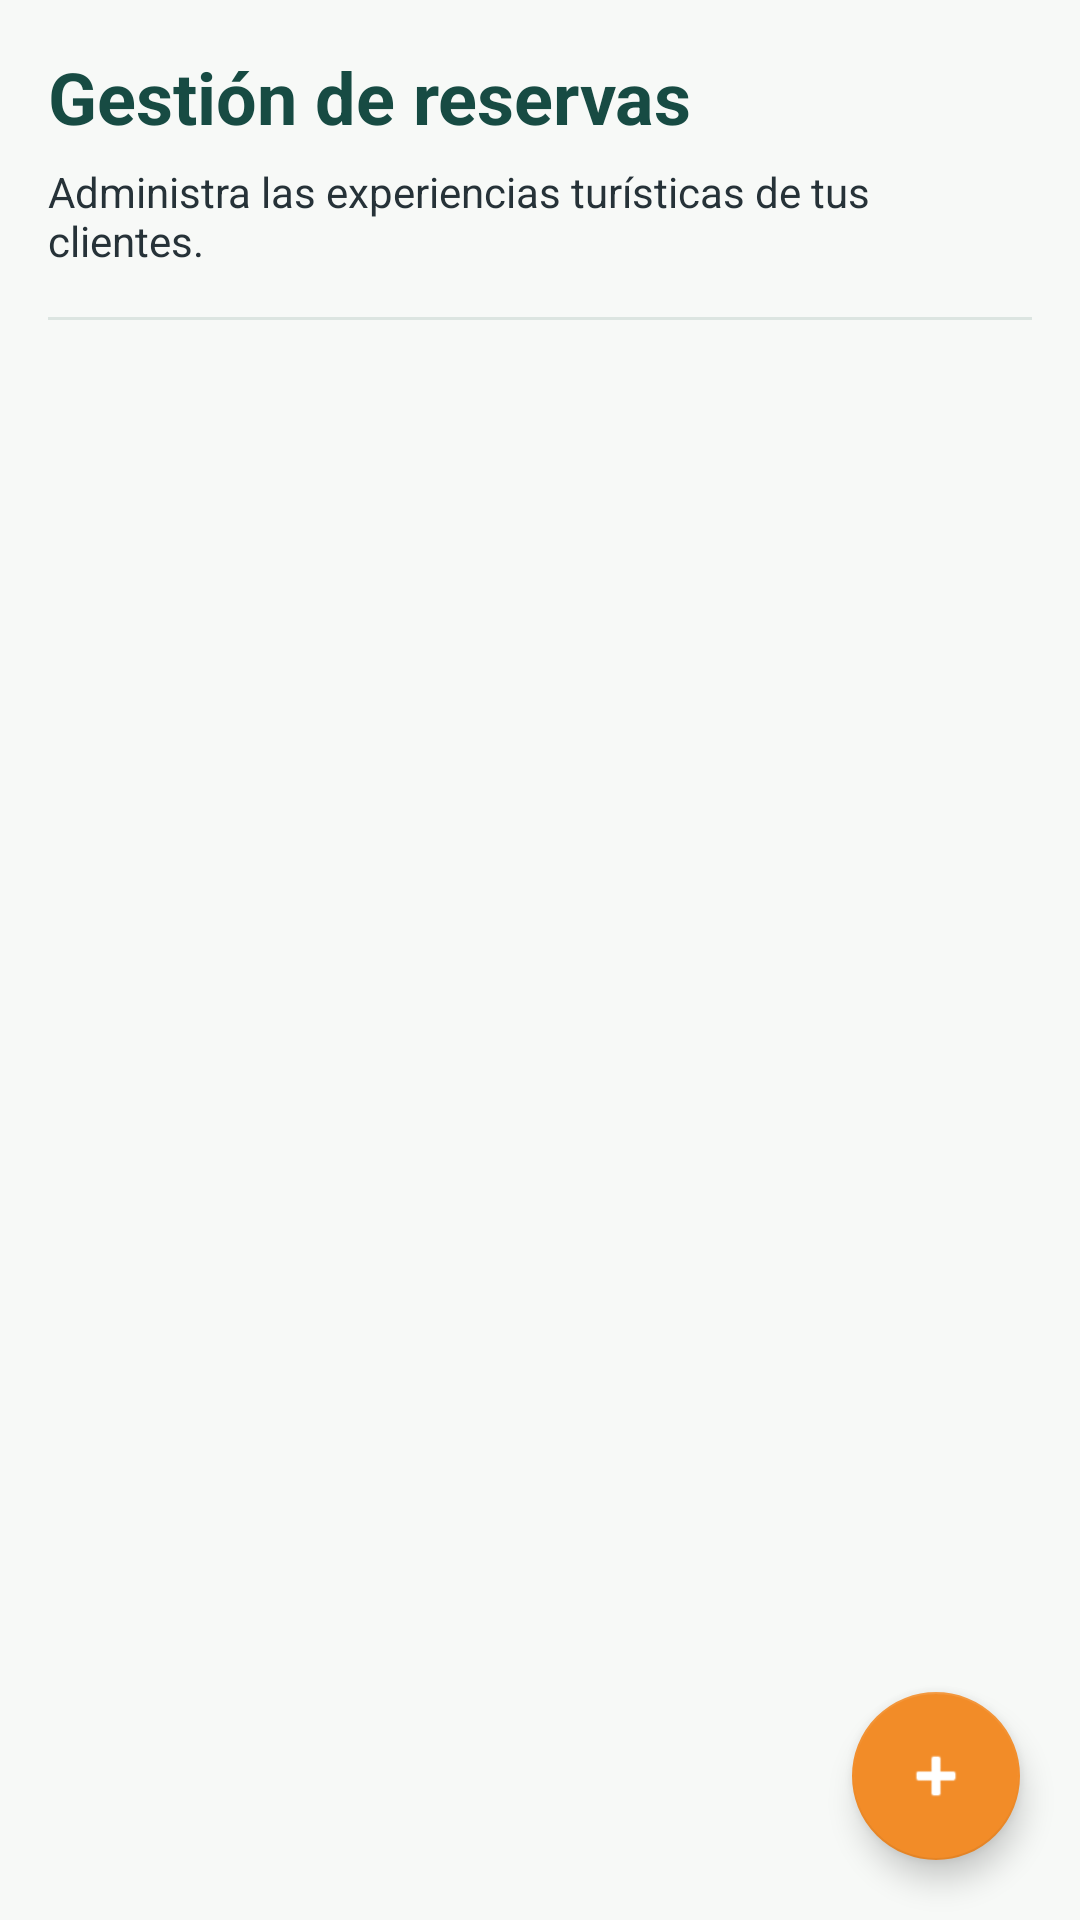

Screen size 1080px×1920px. Icon name, then its center in pixels as (x=x, y=y):
Registrar nueva reserva: (x=936, y=1776)
